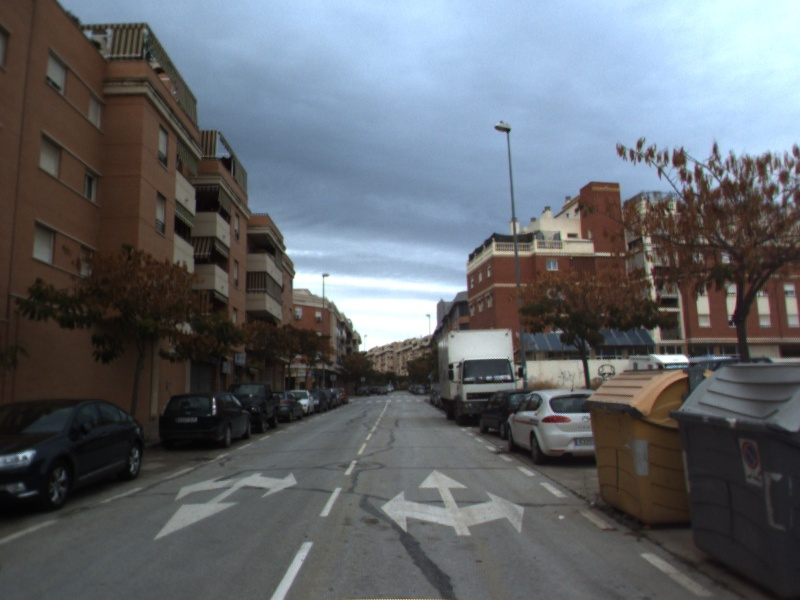STRAIGHT_LEFT_RIGHT: (379, 467, 527, 538)
